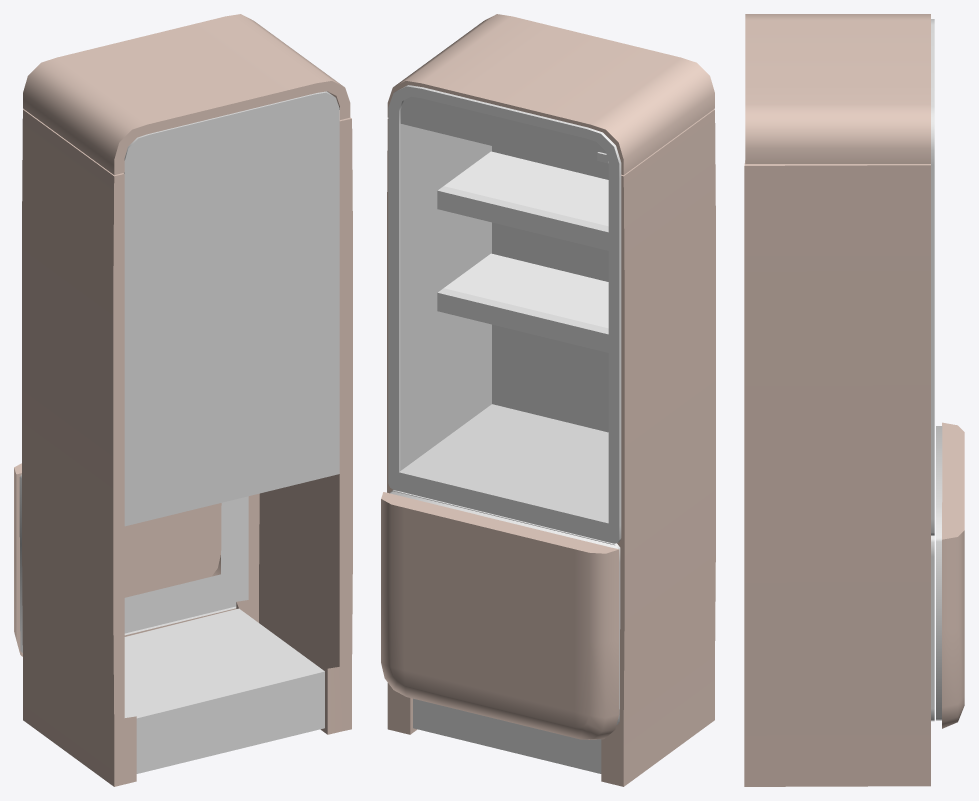
Rendered from FridgeBody.fbx.
3 renders of one model, left to right at view 1: azimuth 30°, elevation 25°; view 2: azimuth 150°, elevation 25°; view 3: azimuth 270°, elevation 25°, orthographic.
Visible parts, largest first — view 1: FridgeBody; view 2: FridgeBody; view 3: FridgeBody.
Part boxes in pixels (left/top/right/bottom): FridgeBody: left=14, top=14, right=352, bottom=786; FridgeBody: left=381, top=14, right=715, bottom=786; FridgeBody: left=744, top=14, right=964, bottom=786.
Size of the model in its own units: 67.35 by 176 by 52.73.
